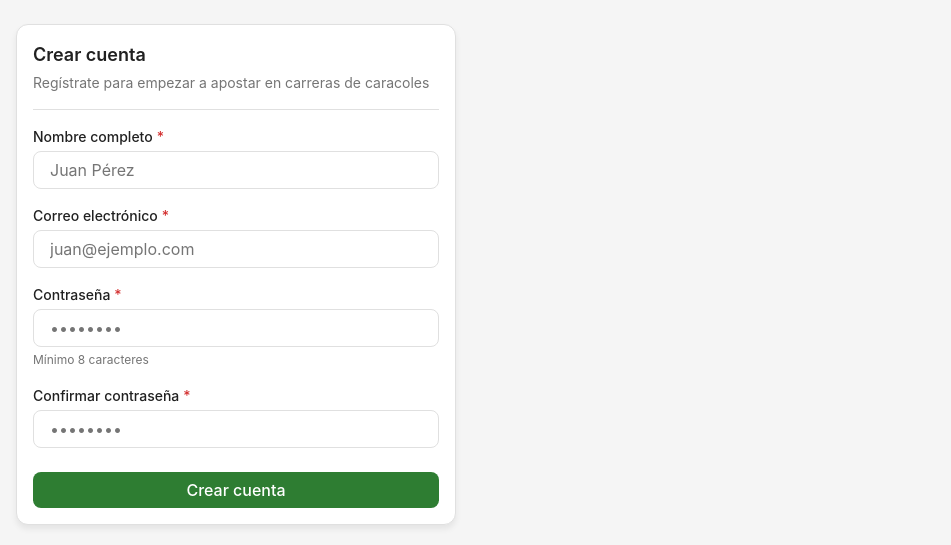
it: RegisterForm › shows error toast on register failure
In the field labelled "Nombre completo*": coordinates (236, 170) [33,151,439,189], type "Test User"
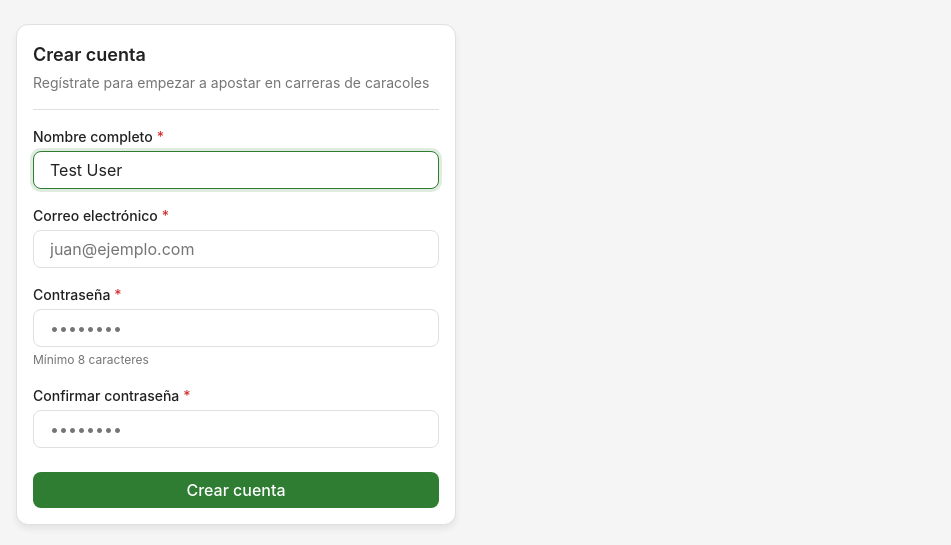
In the field labelled "Correo electrónico*": coordinates (236, 249) [33,230,439,268], type "existing@example.com"
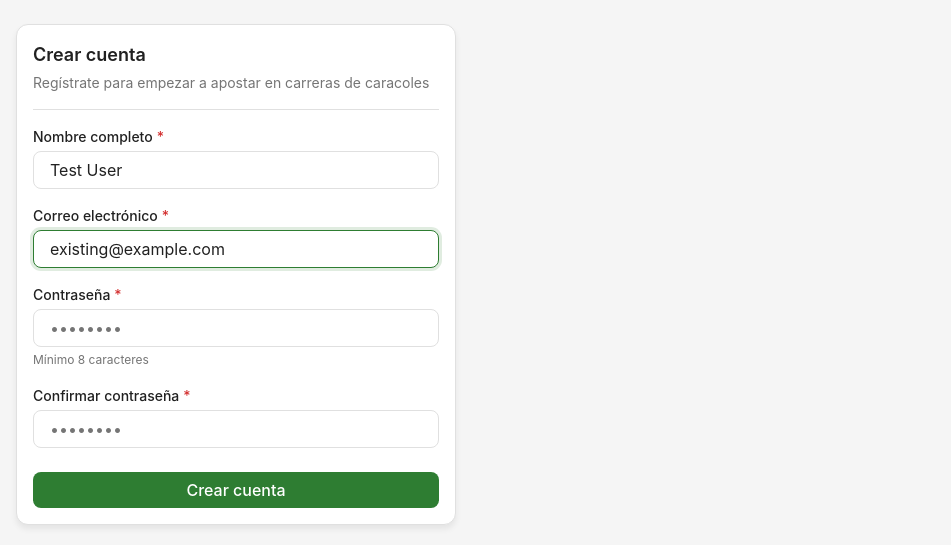
In the password field labelled "Contraseña*": coordinates (236, 328) [33,309,439,347], type "password123"
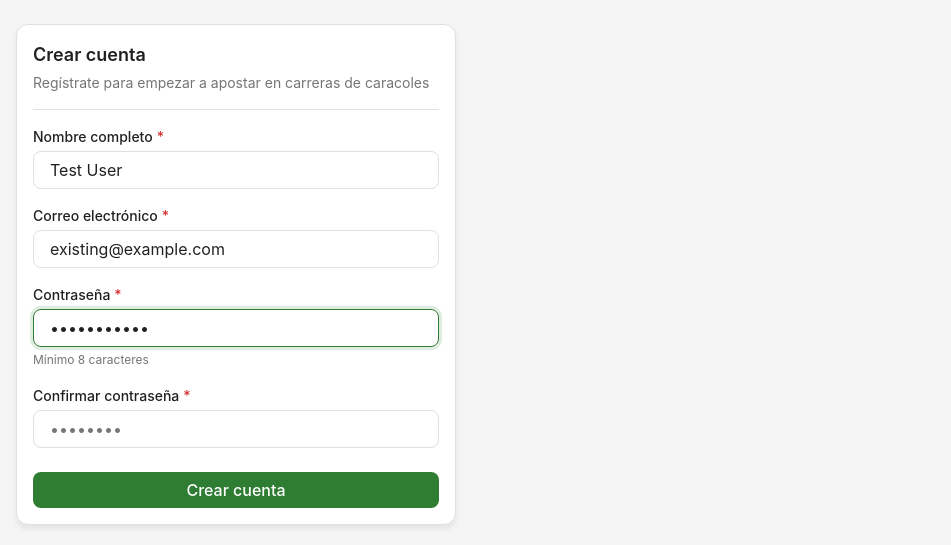
In the password field labelled "Confirmar contraseña*": coordinates (236, 429) [33,410,439,448], type "password123"
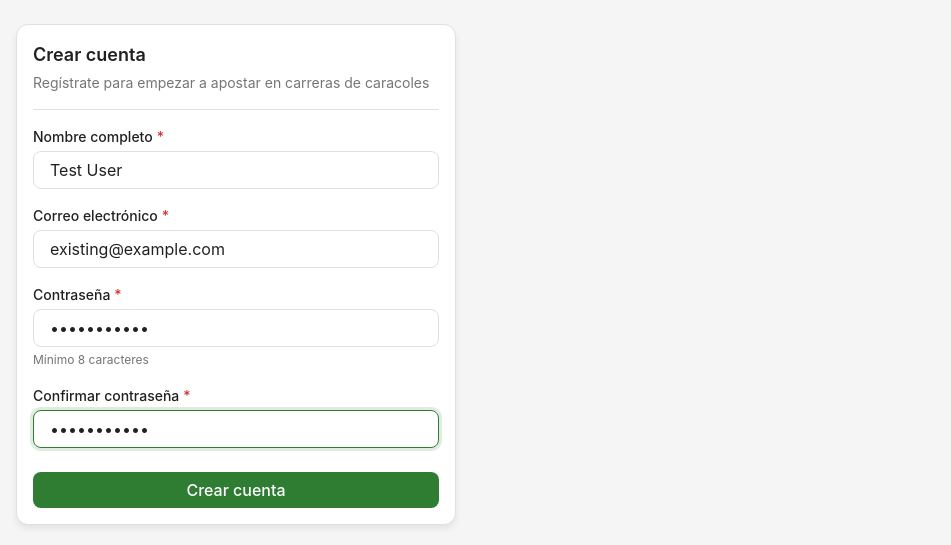
Click the button "Crear cuenta": coordinates (236, 490) [33,472,439,508]
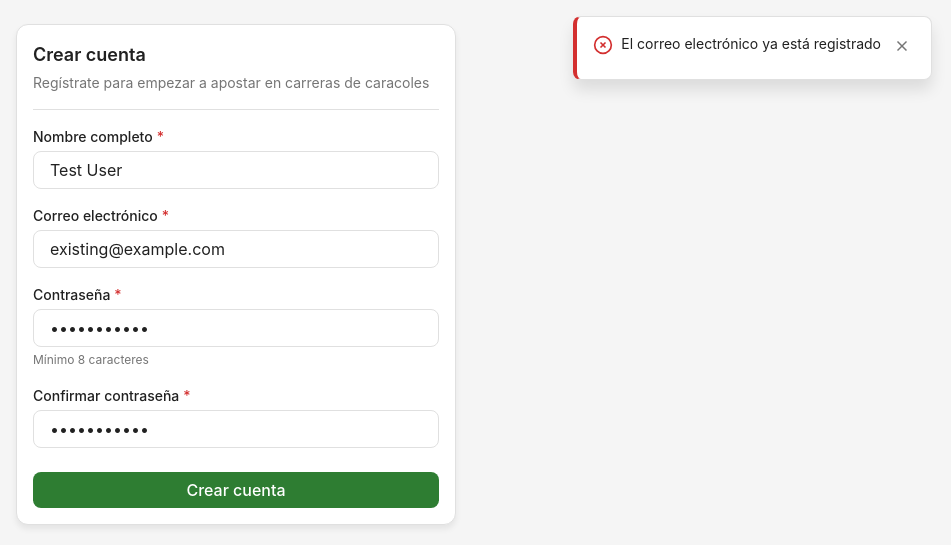
Check: the text "El correo electrónico ya está registrado" is shown, box [621,33,881,54]
